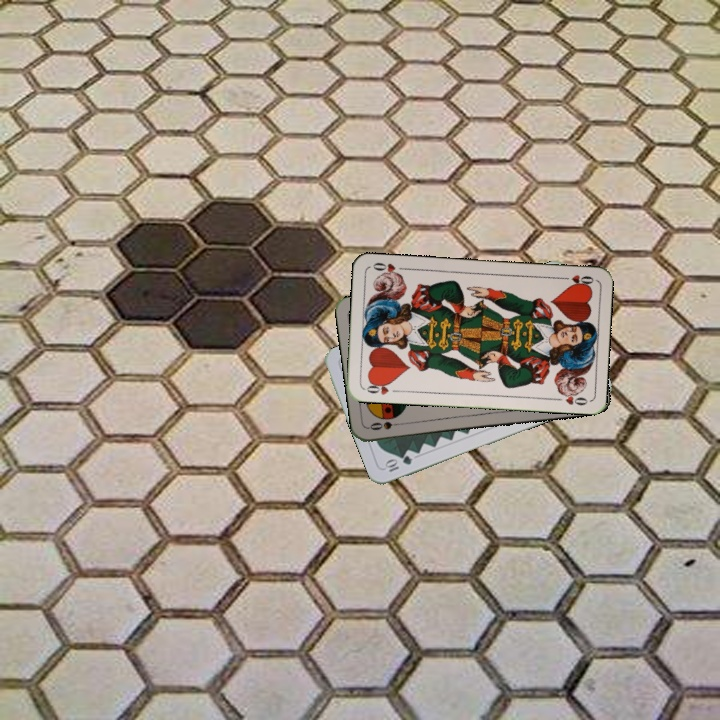G10: (381, 451, 415, 475)
HO: (361, 378, 402, 397), (556, 271, 596, 288)
SO: (366, 417, 406, 433)
